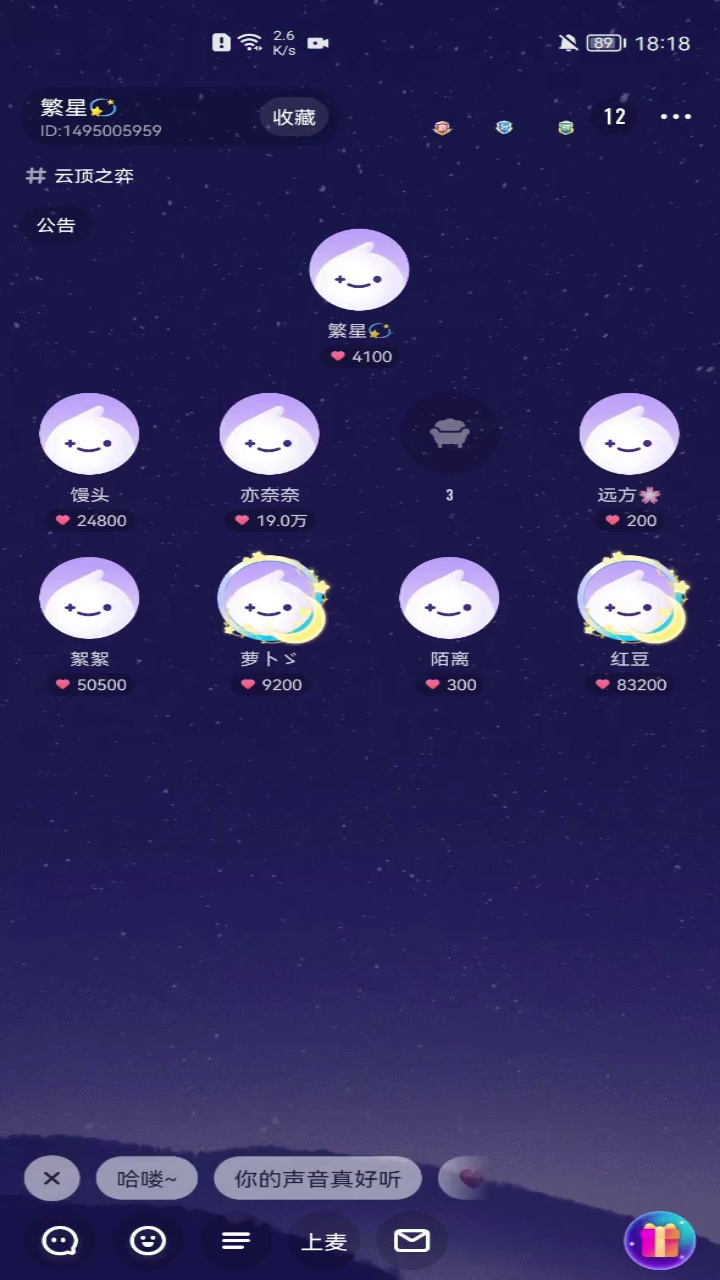avatar: (211, 545, 340, 648), (573, 545, 692, 650), (211, 382, 328, 482), (32, 549, 145, 646), (393, 550, 507, 646), (300, 222, 416, 316), (33, 386, 147, 481), (573, 385, 684, 482)
